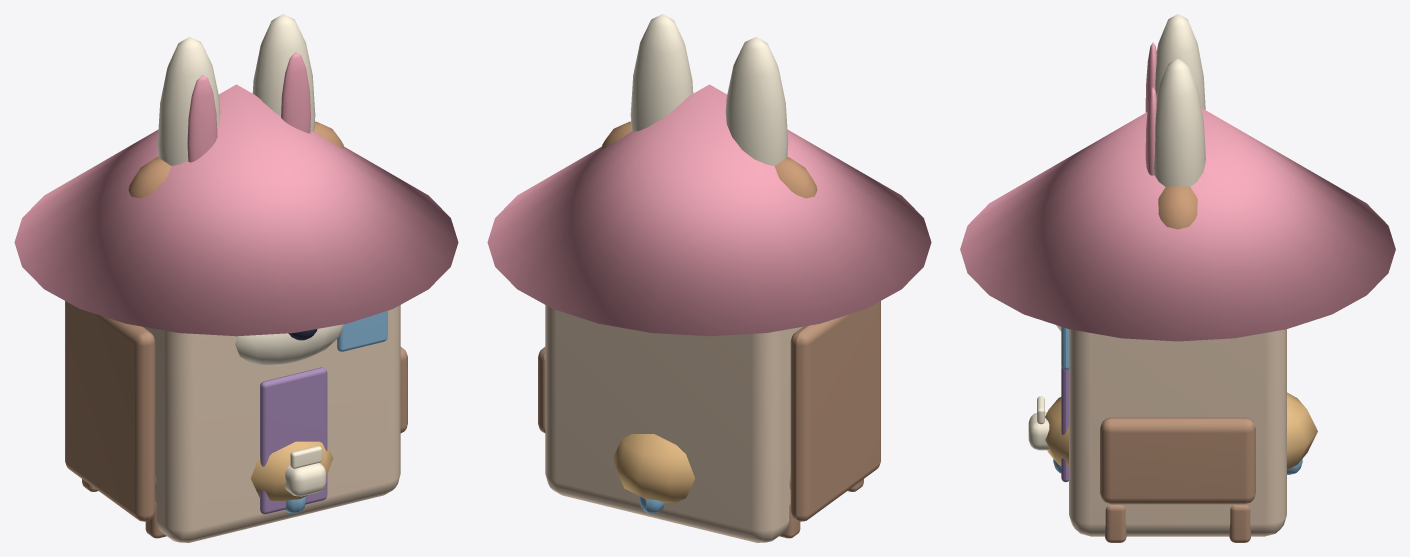
File: toybox.glb
3 renders of one model, left to right at view 1: azimuth 30°, elevation 25°; view 2: azimuth 150°, elevation 25°; view 3: azimuth 270°, elevation 25°, orthographic.
Parts seen in each view (by area): view 1: house, bed, rabbit, bear, bread, toothbrush; view 2: house, bed, rabbit, bread, bear; view 3: house, bed, rabbit, bread, bear, toothbrush.
Part boxes in pixels (x1,y1,x2,y2): house: [14, 84, 458, 542]; bed: [65, 301, 407, 538]; rabbit: [157, 14, 315, 165]; bear: [128, 121, 344, 365]; bread: [251, 441, 333, 500]; toothbrush: [285, 446, 326, 513]; house: [487, 84, 931, 542]; bed: [538, 301, 880, 538]; rabbit: [630, 14, 788, 165]; bread: [612, 434, 694, 502]; bear: [601, 121, 817, 198]; house: [960, 108, 1395, 536]; bed: [1100, 417, 1255, 542]; rabbit: [1145, 14, 1205, 186]; bread: [1045, 392, 1317, 470]; bear: [1056, 186, 1197, 331]; toothbrush: [1028, 396, 1302, 474].
Bounding box in the file's own units: 1.4 × 1.74 × 1.4.
